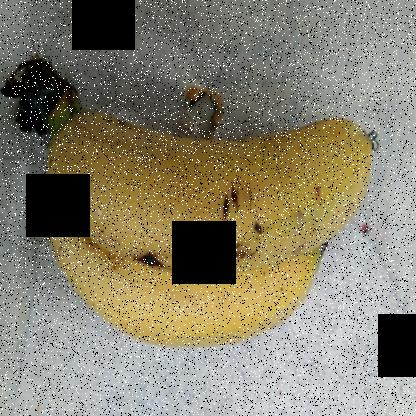freshripe: (60, 271, 328, 354)
ripe: (47, 93, 382, 281)
